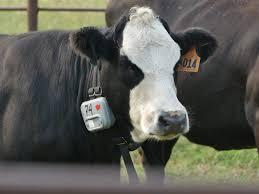cow: (0, 6, 219, 184), (105, 0, 259, 185)
